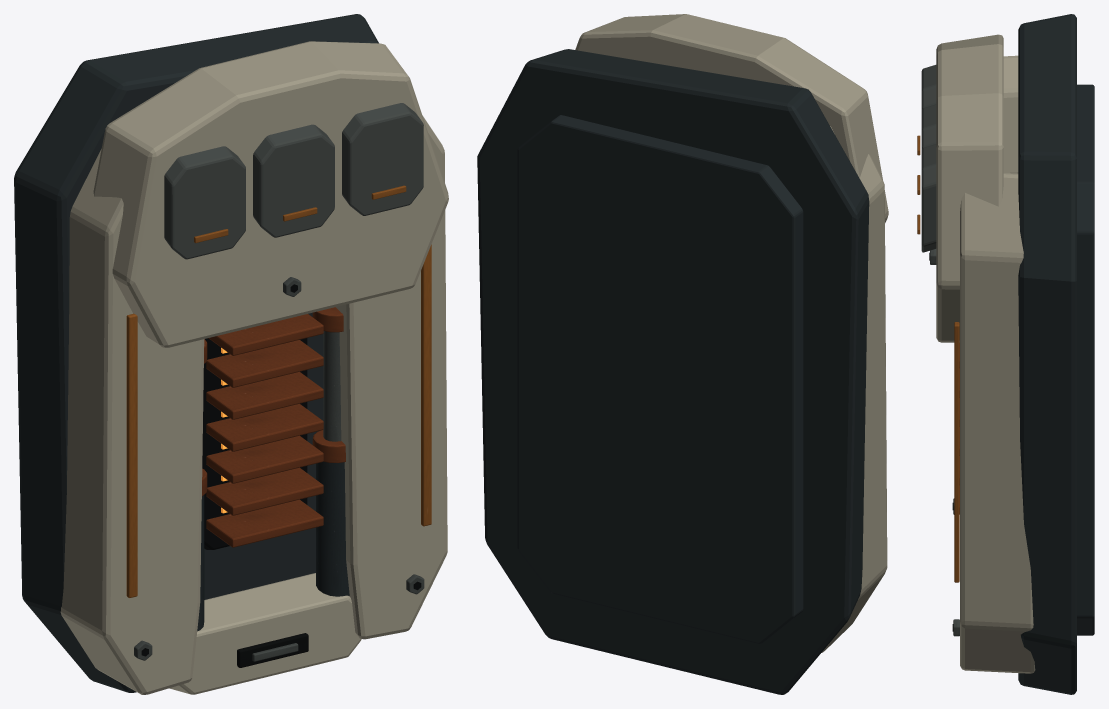
Rendered from fulguro_punch.glb.
The picture shows the model from 3 angles, left to right: view 1: azimuth 30°, elevation 25°; view 2: azimuth 150°, elevation 25°; view 3: azimuth 270°, elevation 25°; orthographic projection. The views are drawn at different scales.
Visible parts, largest first — view 1: ivory, steel, edge, copper, paint, rubber; view 2: steel, ivory; view 3: steel, ivory, edge, paint.
Part boxes in pixels (<box>): ivory: <box>60,41,448,694</box>; steel: <box>14,14,378,692</box>; edge: <box>134,103,424,661</box>; copper: <box>202,307,345,547</box>; paint: <box>126,185,431,597</box>; rubber: <box>141,284,421,667</box>; steel: <box>477,49,869,694</box>; ivory: <box>575,14,888,652</box>; steel: <box>1018,14,1094,694</box>; ivory: <box>936,34,1035,673</box>; edge: <box>921,65,959,636</box>; paint: <box>917,135,959,582</box>.
Bounding box in the file's own units: 0.1437 × 0.2156 × 0.0605.
7 materials, 6 textured.
